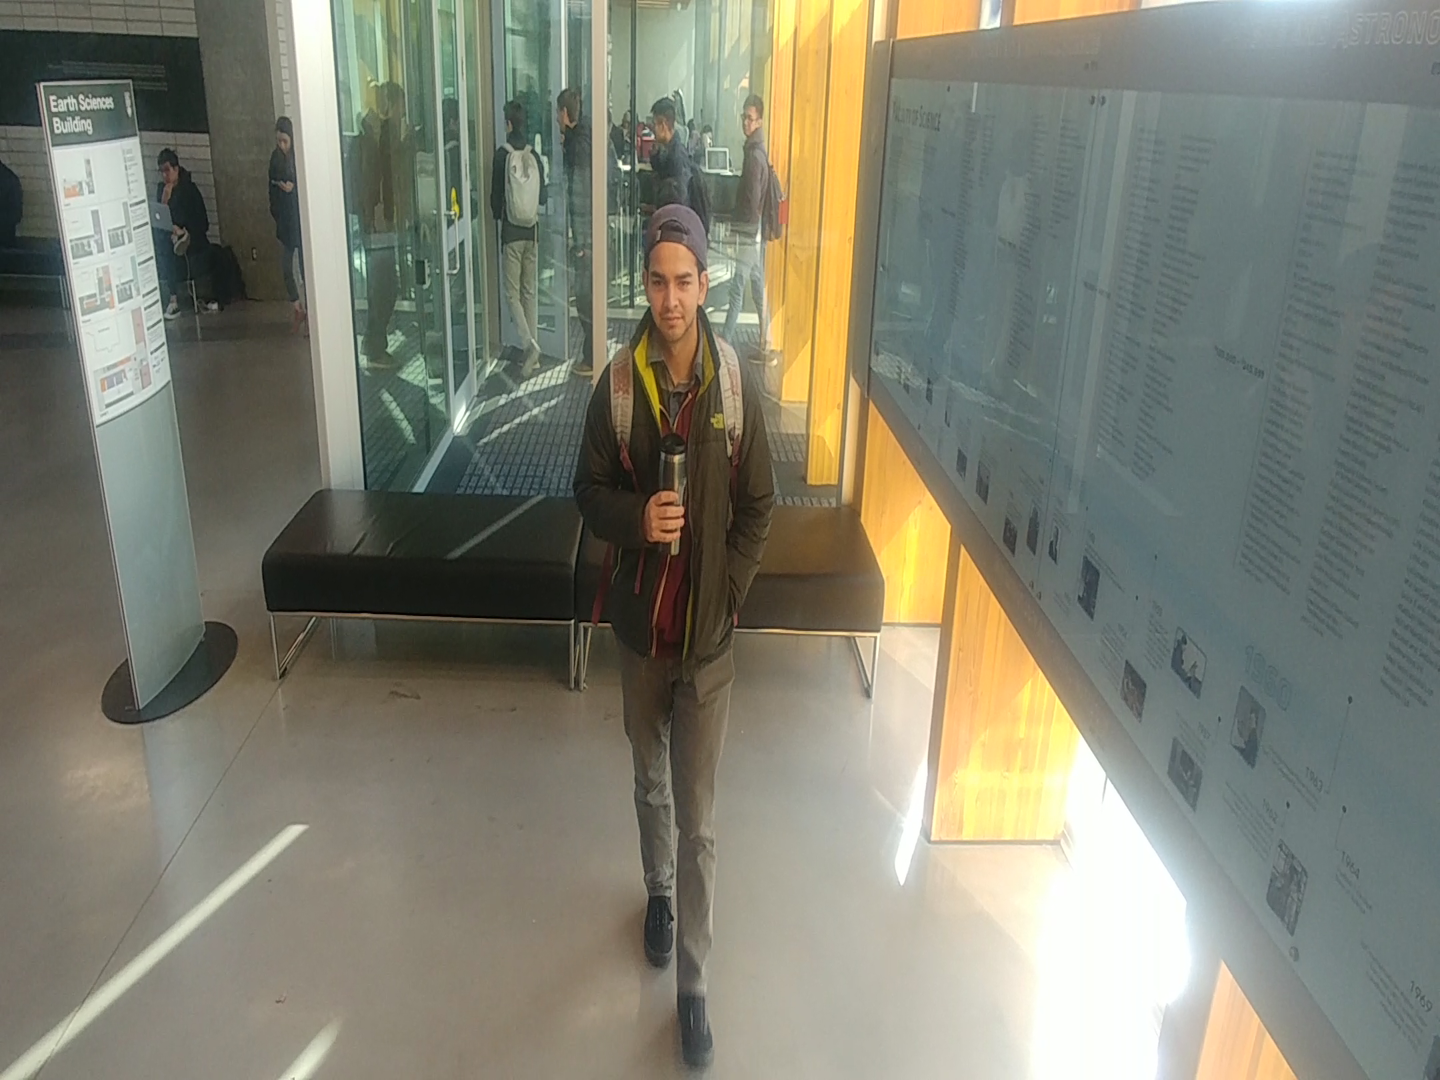face: (626, 195, 725, 353), (639, 88, 686, 154), (489, 92, 536, 155), (150, 138, 195, 192), (549, 83, 587, 141), (731, 86, 768, 148), (265, 105, 295, 164)
human: (564, 195, 790, 1080), (339, 72, 424, 395), (482, 85, 555, 388), (723, 86, 794, 368), (147, 133, 226, 329), (550, 78, 594, 386), (258, 100, 311, 347), (624, 86, 716, 219)
